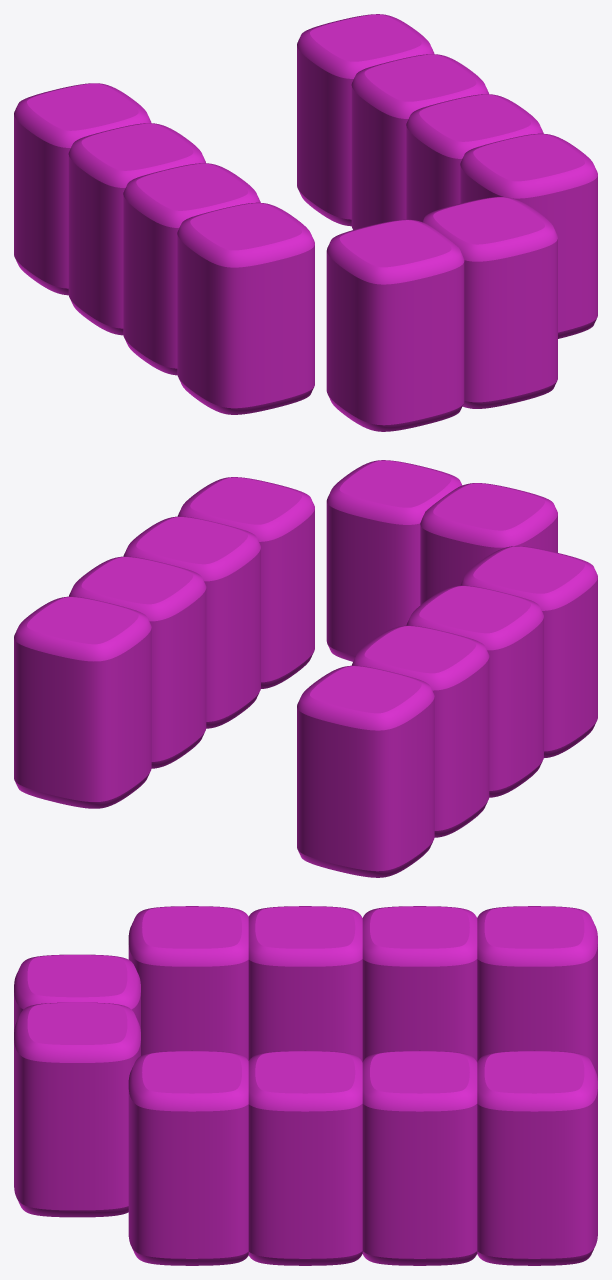
The model's file is Letter_n_Small.fbx.
3 views of the same model, one above another, from view 1: azimuth 30°, elevation 25°; view 2: azimuth 150°, elevation 25°; view 3: azimuth 270°, elevation 25° (orthographic). The views are drawn at different scales.
Parts seen in each view (by area): view 1: Letter_n; view 2: Letter_n; view 3: Letter_n.
Part boxes in pixels (<box>): Letter_n: <box>14,14,597,431</box>; Letter_n: <box>14,460,597,877</box>; Letter_n: <box>14,906,597,1265</box>.
Size of the model in its own units: 0.3465 by 0.14 by 0.4311.
